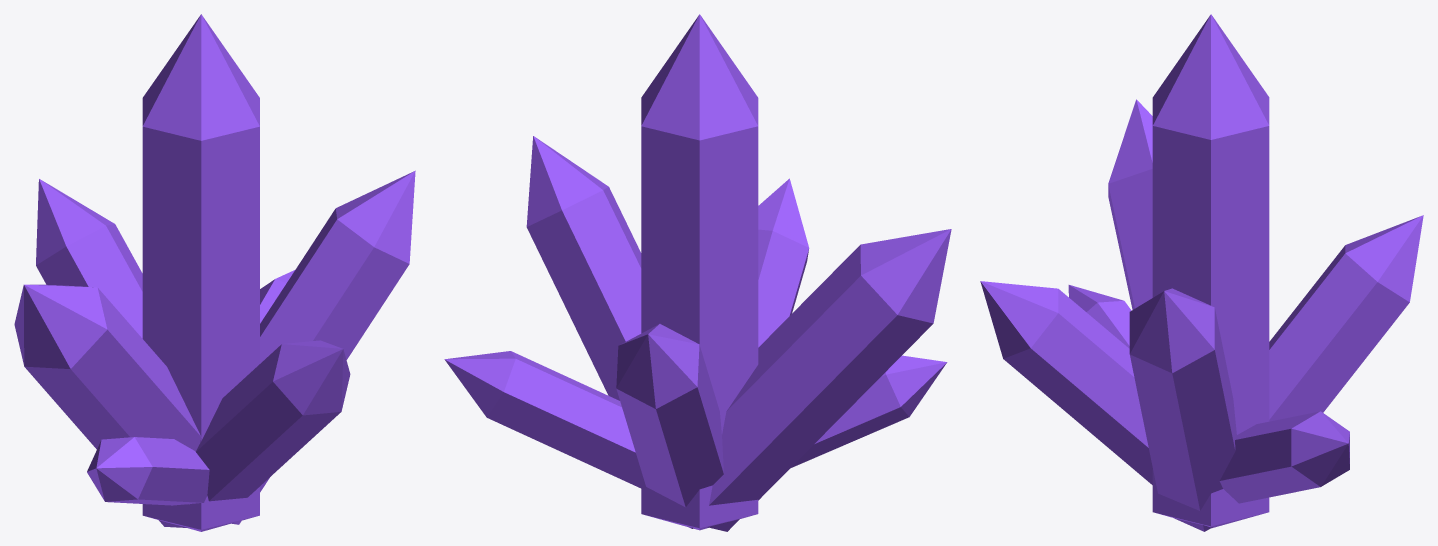
Rendered from crystal.obj.
The picture shows the model from 3 angles, left to right: view 1: azimuth 30°, elevation 25°; view 2: azimuth 150°, elevation 25°; view 3: azimuth 270°, elevation 25°; orthographic projection.
Visible parts, largest first — view 1: crystal; view 2: crystal; view 3: crystal.
Part boxes in pixels (left/top/right/bottom): crystal: left=14, top=14, right=415, bottom=531; crystal: left=444, top=14, right=951, bottom=531; crystal: left=980, top=14, right=1423, bottom=531.
Bounding box in the file's own units: 2.07 × 2.53 × 1.98.
